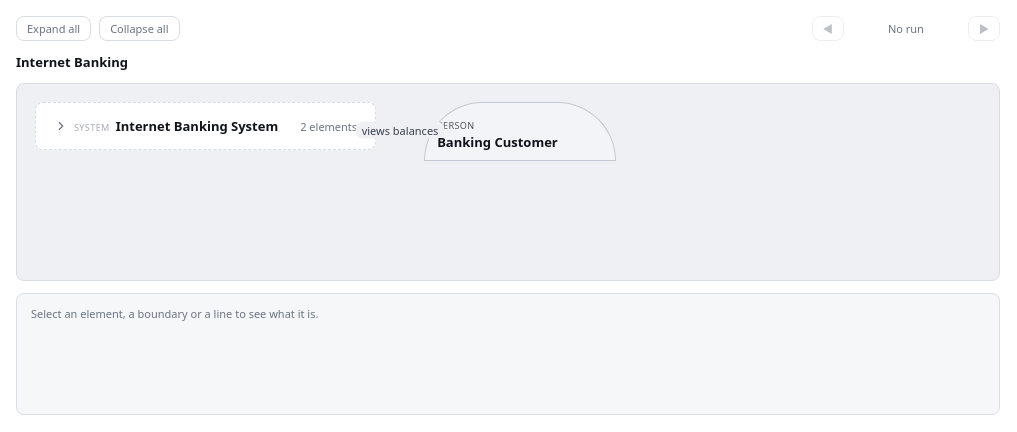
Scenario: C4Chart › opens and shuts every boundary at once from the toolbar
Click the button "Expand all": [54, 28] box left=16, top=16, right=91, bottom=41
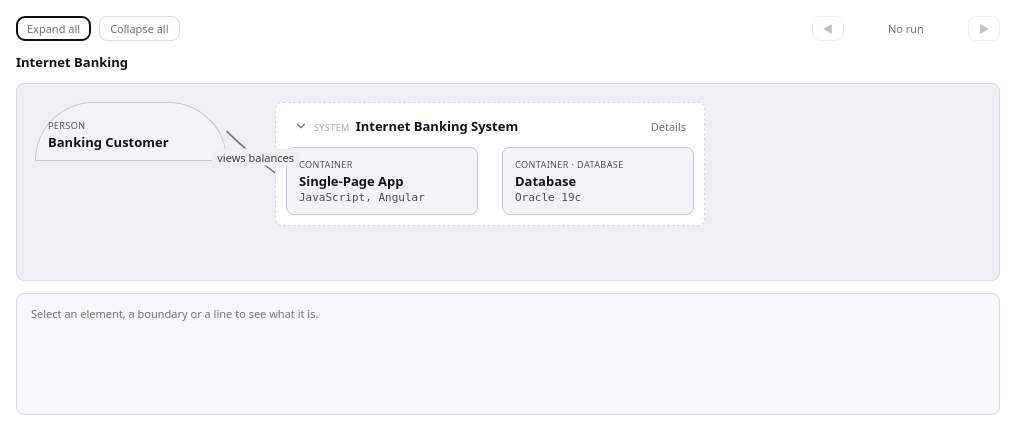
Check: the text "Database" is shown, box left=515, top=173, right=576, bottom=189
Click the button "Collapse all": [139, 28] box left=99, top=16, right=180, bottom=41
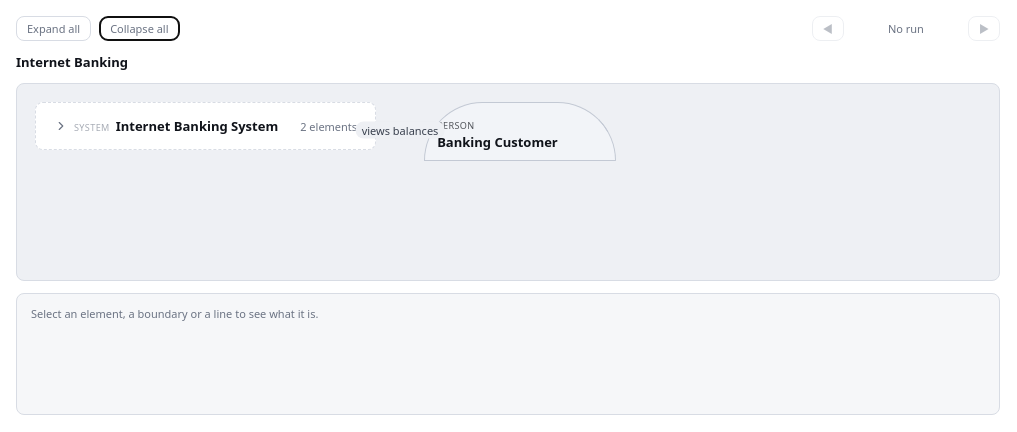
Check: the button "database" is gone
